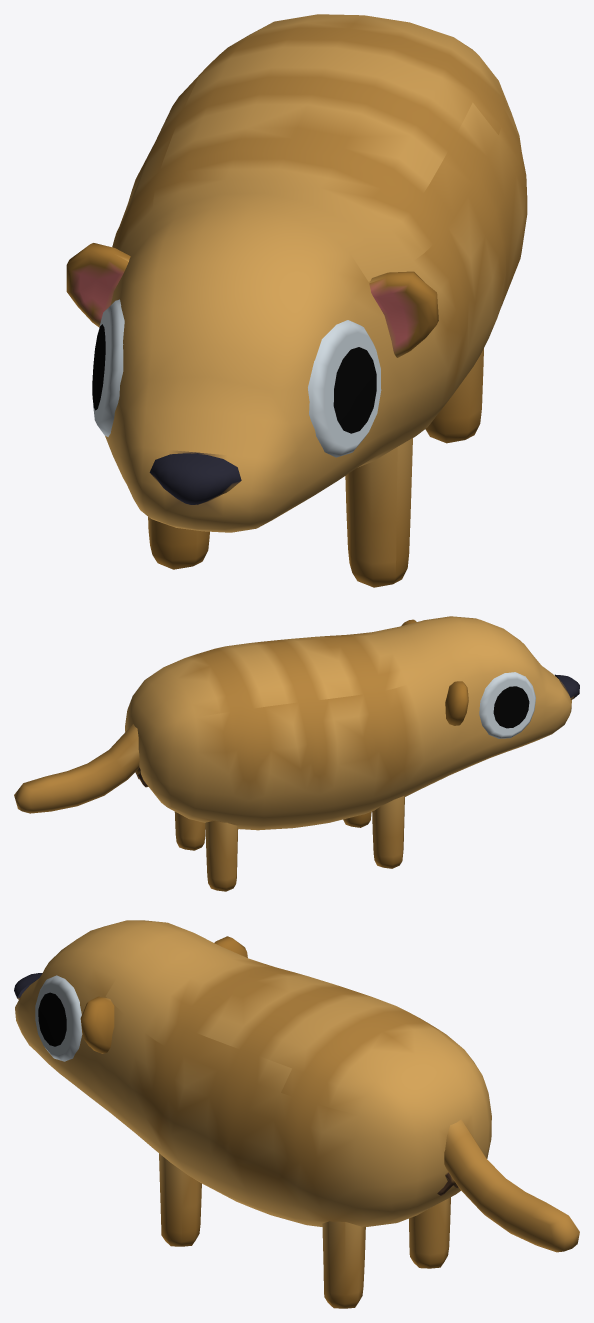
Rendered from Meerkat.glb.
The picture shows the model from 3 angles, top to bottom: view 1: azimuth 30°, elevation 25°; view 2: azimuth 150°, elevation 25°; view 3: azimuth 270°, elevation 25°; orthographic projection. The views are drawn at different scales.
Parts seen in each view (by area): view 1: 100; view 2: 100; view 3: 100.
Part boxes in pixels (x1,y1,x2,y2): 100: (66, 14, 527, 587); 100: (14, 616, 579, 891); 100: (14, 920, 579, 1308).
Bounding box in the file's own units: 0.7784 × 0.4395 × 0.8556.
